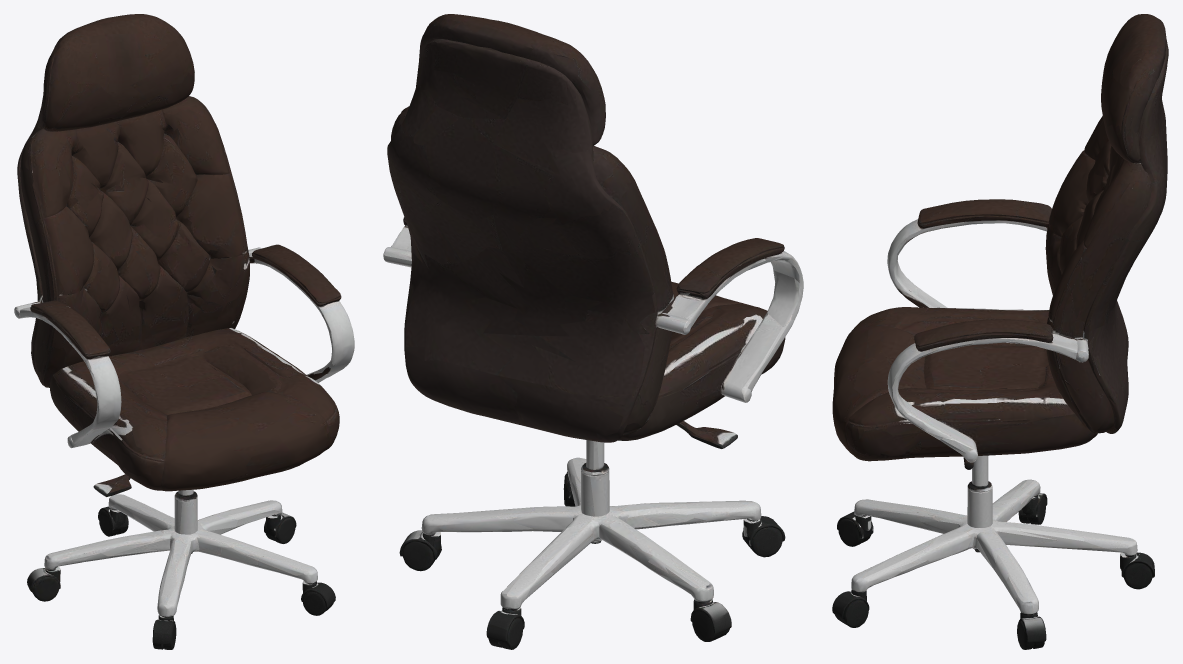
The model's file is executive_brown_leather_tufted_chair.glb.
3 views of the same model, side by side, from view 1: azimuth 30°, elevation 25°; view 2: azimuth 150°, elevation 25°; view 3: azimuth 270°, elevation 25° (orthographic). The views are drawn at different scales.
Visible parts, largest first — view 1: output_unwrapped; view 2: output_unwrapped; view 3: output_unwrapped.
Part boxes in pixels (x1=…): output_unwrapped: x1=14, y1=14, x2=354, y2=649; output_unwrapped: x1=383, y1=14, x2=803, y2=649; output_unwrapped: x1=832, y1=14, x2=1168, y2=649.
Size of the model in its own units: 1.04 by 1.9 by 1.05.
1 material, 1 textured.
